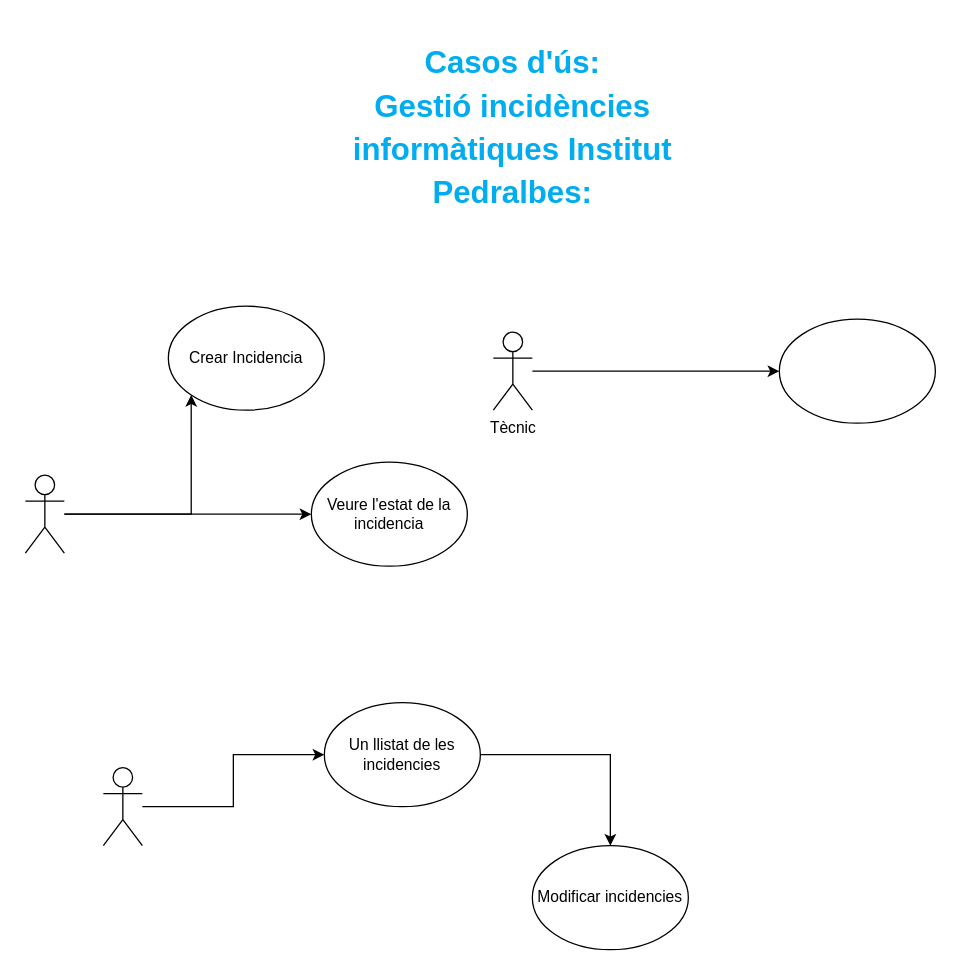
This 958x972 diagram has some shape labels left out. The shapes that lost their labels are listed below. From the top down, each one's centre as x and y in pixels, then its label:
At (856,370): "Registrar Actuació".
At (44,513): "Usuari".
At (122,806): "Root".
